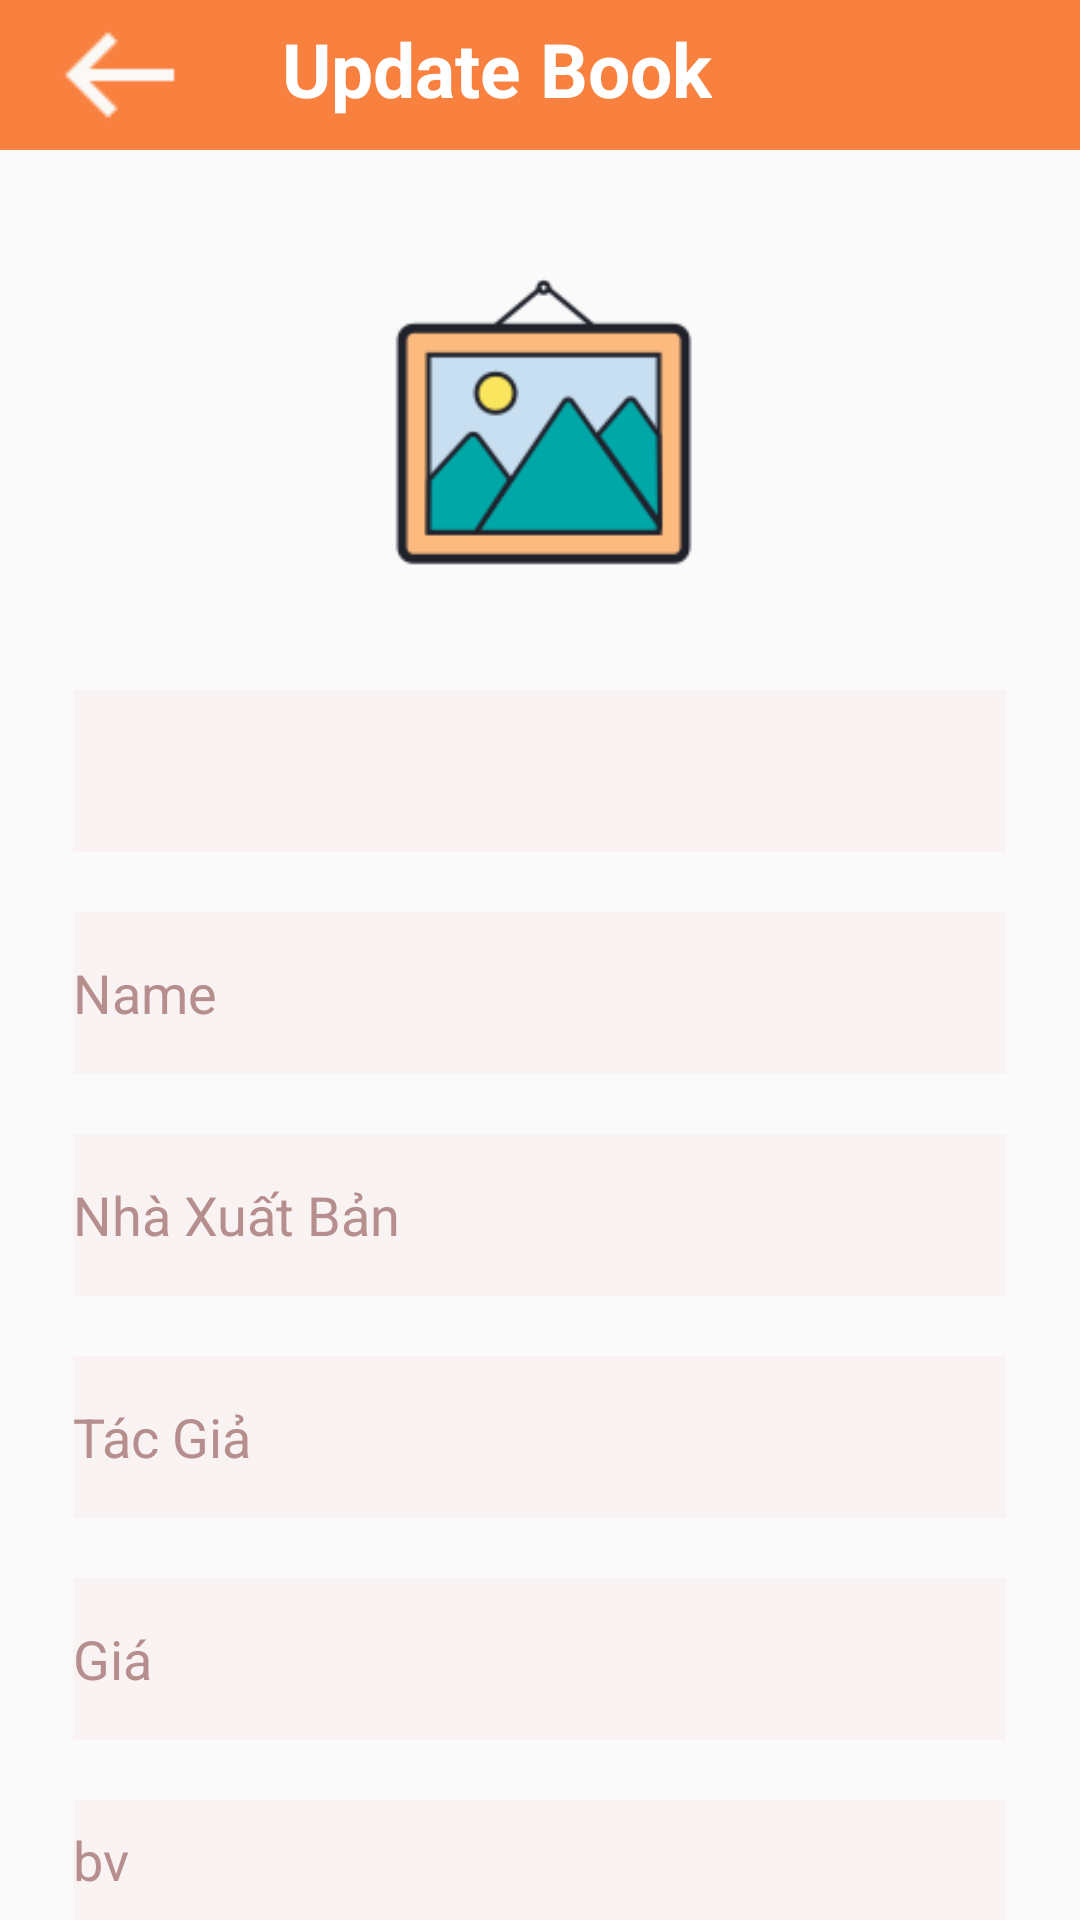

Screen size 1080 x 1920. Icon name, then its box in pixels as [x1,y1,x2,y2]:
back: [65,32,175,118]
